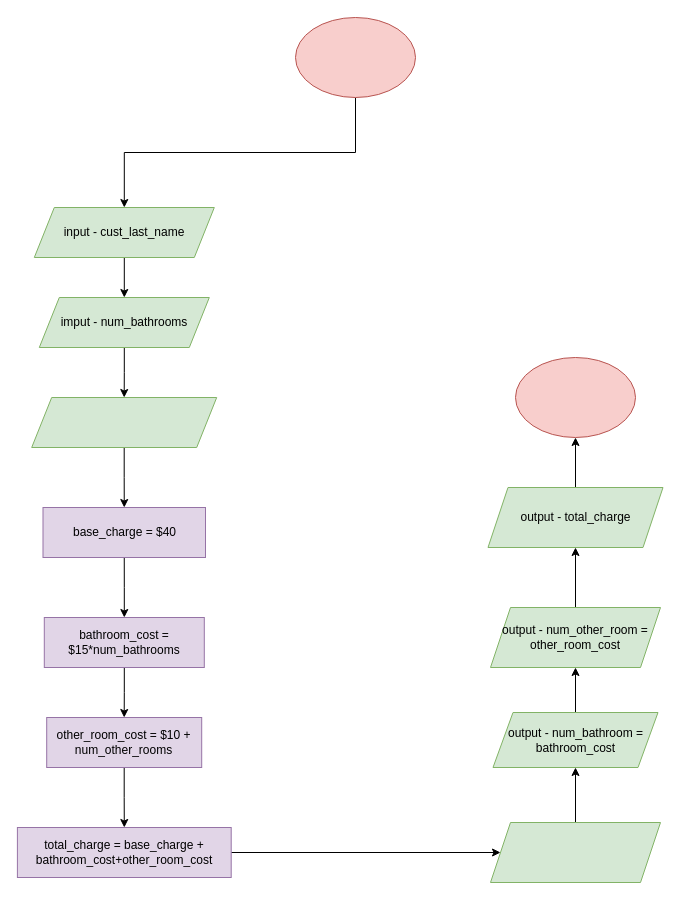
This 681x900 diagram has some shape labels left out. Each missing label, with the centre of its shape:
"End" belongs at (575,397).
"imput - num_other_rooms" belongs at (124,422).
"output-cust_last_name" belongs at (575,852).
"Start" belongs at (355,57).
